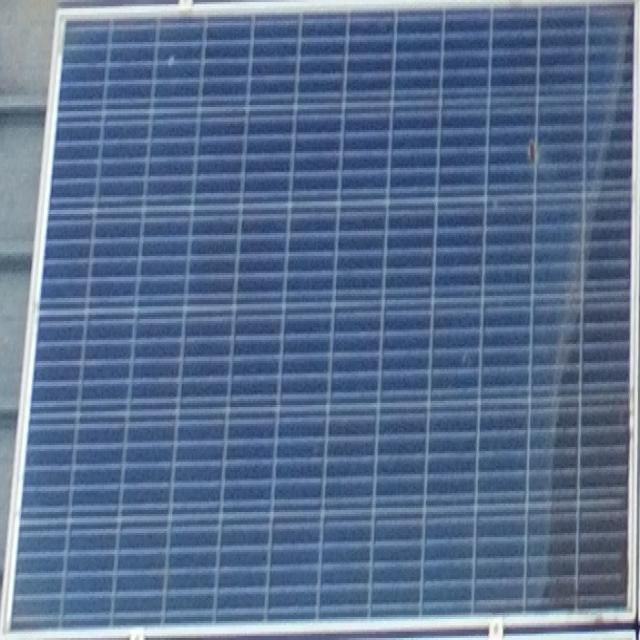Surface Contaminant: (534, 3, 638, 614)
